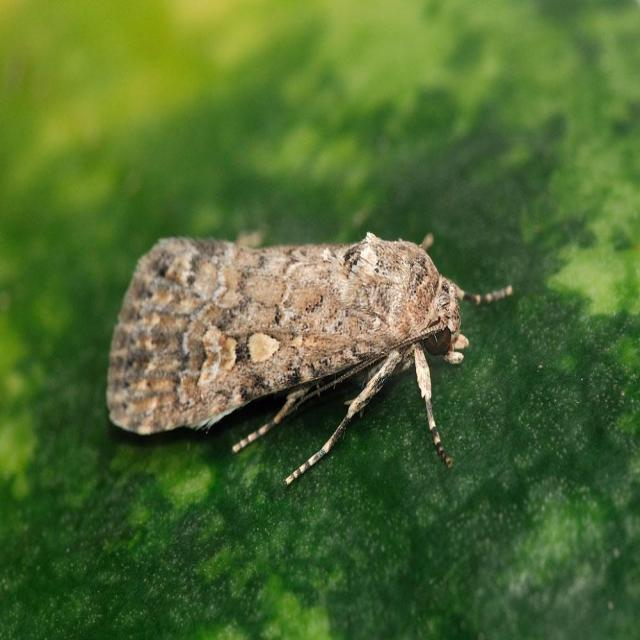armyworm: (98, 201, 488, 454)
